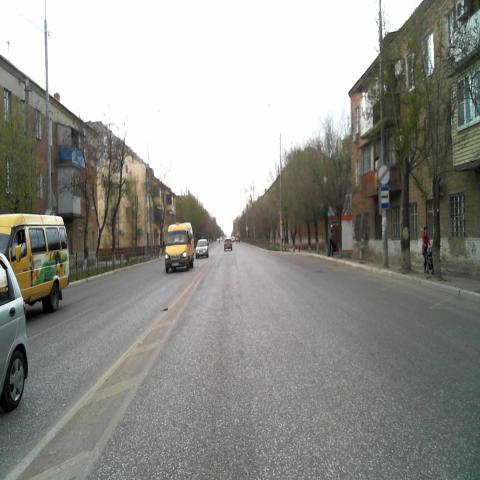3_31: (378, 164, 390, 186)
